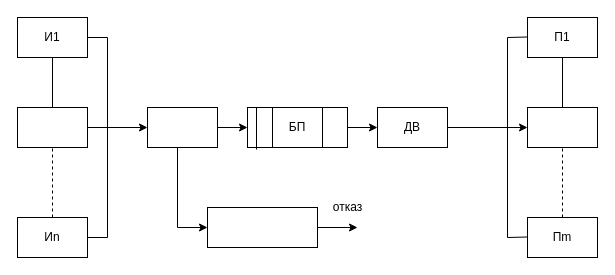
Some shapes in this 615 by 275 pixel diagram are drawn without their labels. Each missing label, with the centre of its shape:
ДП: the point at 182,127
И2: the point at 52,127
П2: the point at 562,127
